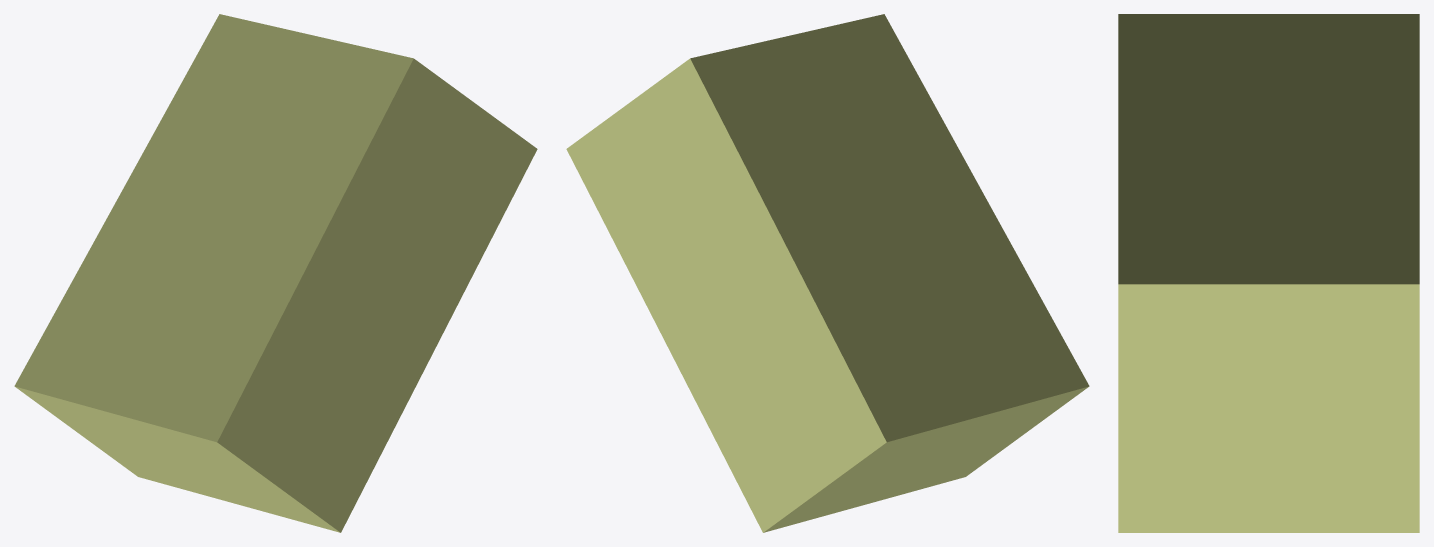
The picture shows the model from 3 angles, left to right: view 1: azimuth 30°, elevation 25°; view 2: azimuth 150°, elevation 25°; view 3: azimuth 270°, elevation 25°; orthographic projection. The views are drawn at different scales.
Visible parts, largest first — view 1: 0_2_1_3_0_3_1_2_1_3; view 2: 0_2_1_3_0_3_1_2_1_3; view 3: 0_2_1_3_0_3_1_2_1_3.
Part boxes in pixels (x1=…): 0_2_1_3_0_3_1_2_1_3: x1=14, y1=14, x2=537, y2=532; 0_2_1_3_0_3_1_2_1_3: x1=566, y1=14, x2=1089, y2=532; 0_2_1_3_0_3_1_2_1_3: x1=1118, y1=14, x2=1419, y2=532.
Size of the model in its own units: 11.18 by 11.44 by 6.
